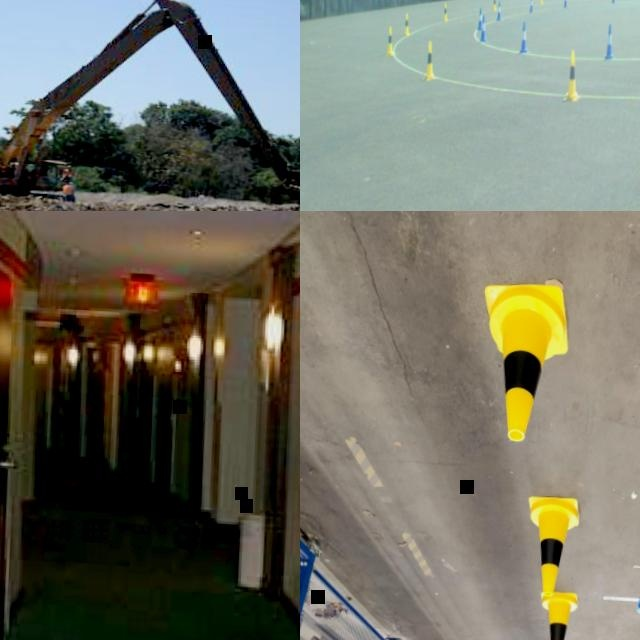Hardhat: (66, 165, 72, 168), (68, 181, 74, 184)
Person: (60, 163, 74, 184), (62, 181, 76, 202)
Safety Cone: (475, 276, 576, 449), (523, 493, 582, 602), (535, 588, 579, 640), (564, 50, 581, 102), (423, 39, 436, 81), (605, 24, 615, 60), (520, 22, 529, 53), (386, 26, 395, 55), (479, 16, 488, 41), (404, 12, 410, 37), (442, 1, 449, 21), (478, 7, 483, 30), (496, 1, 501, 20), (492, 0, 497, 9), (529, 0, 533, 11), (563, 0, 567, 6)
Safety Vest: (63, 184, 73, 193), (64, 168, 74, 176)
machinery: (0, 0, 300, 211)
